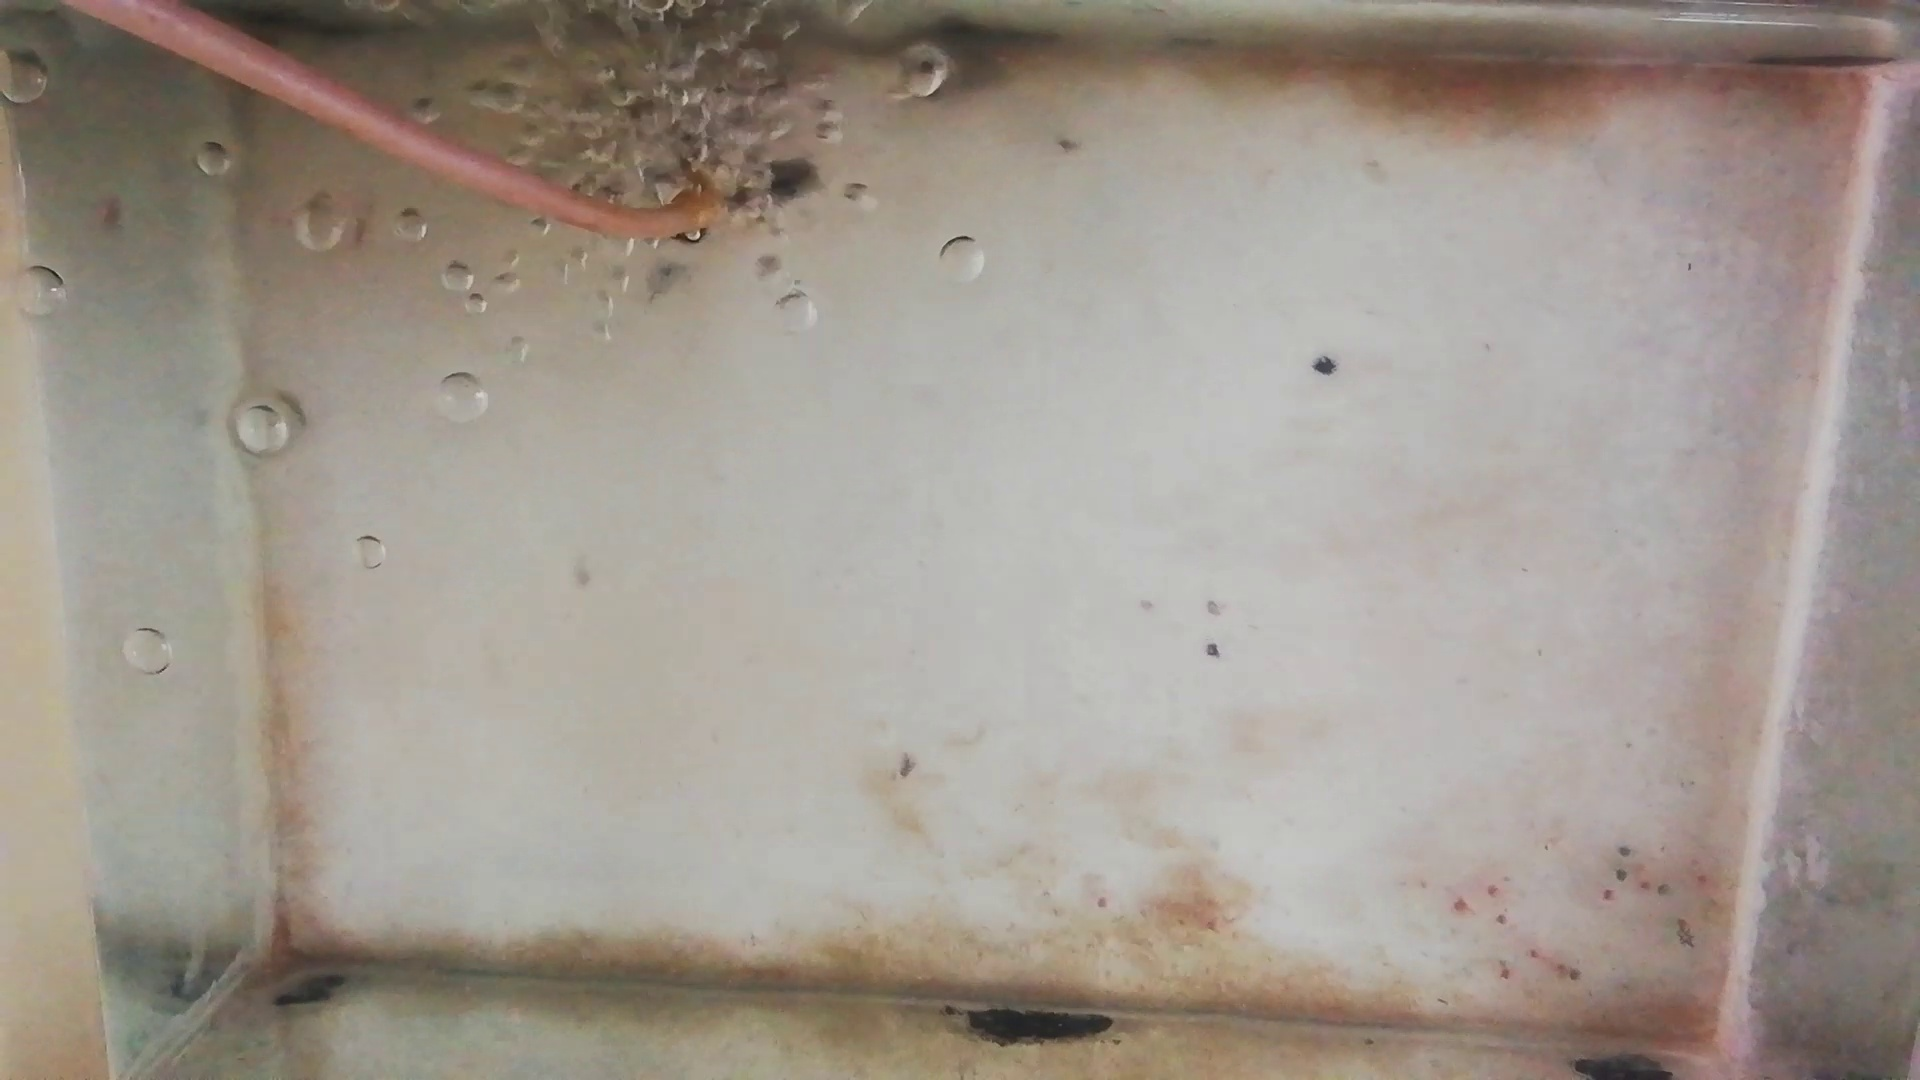fish: (678, 157, 824, 244)
